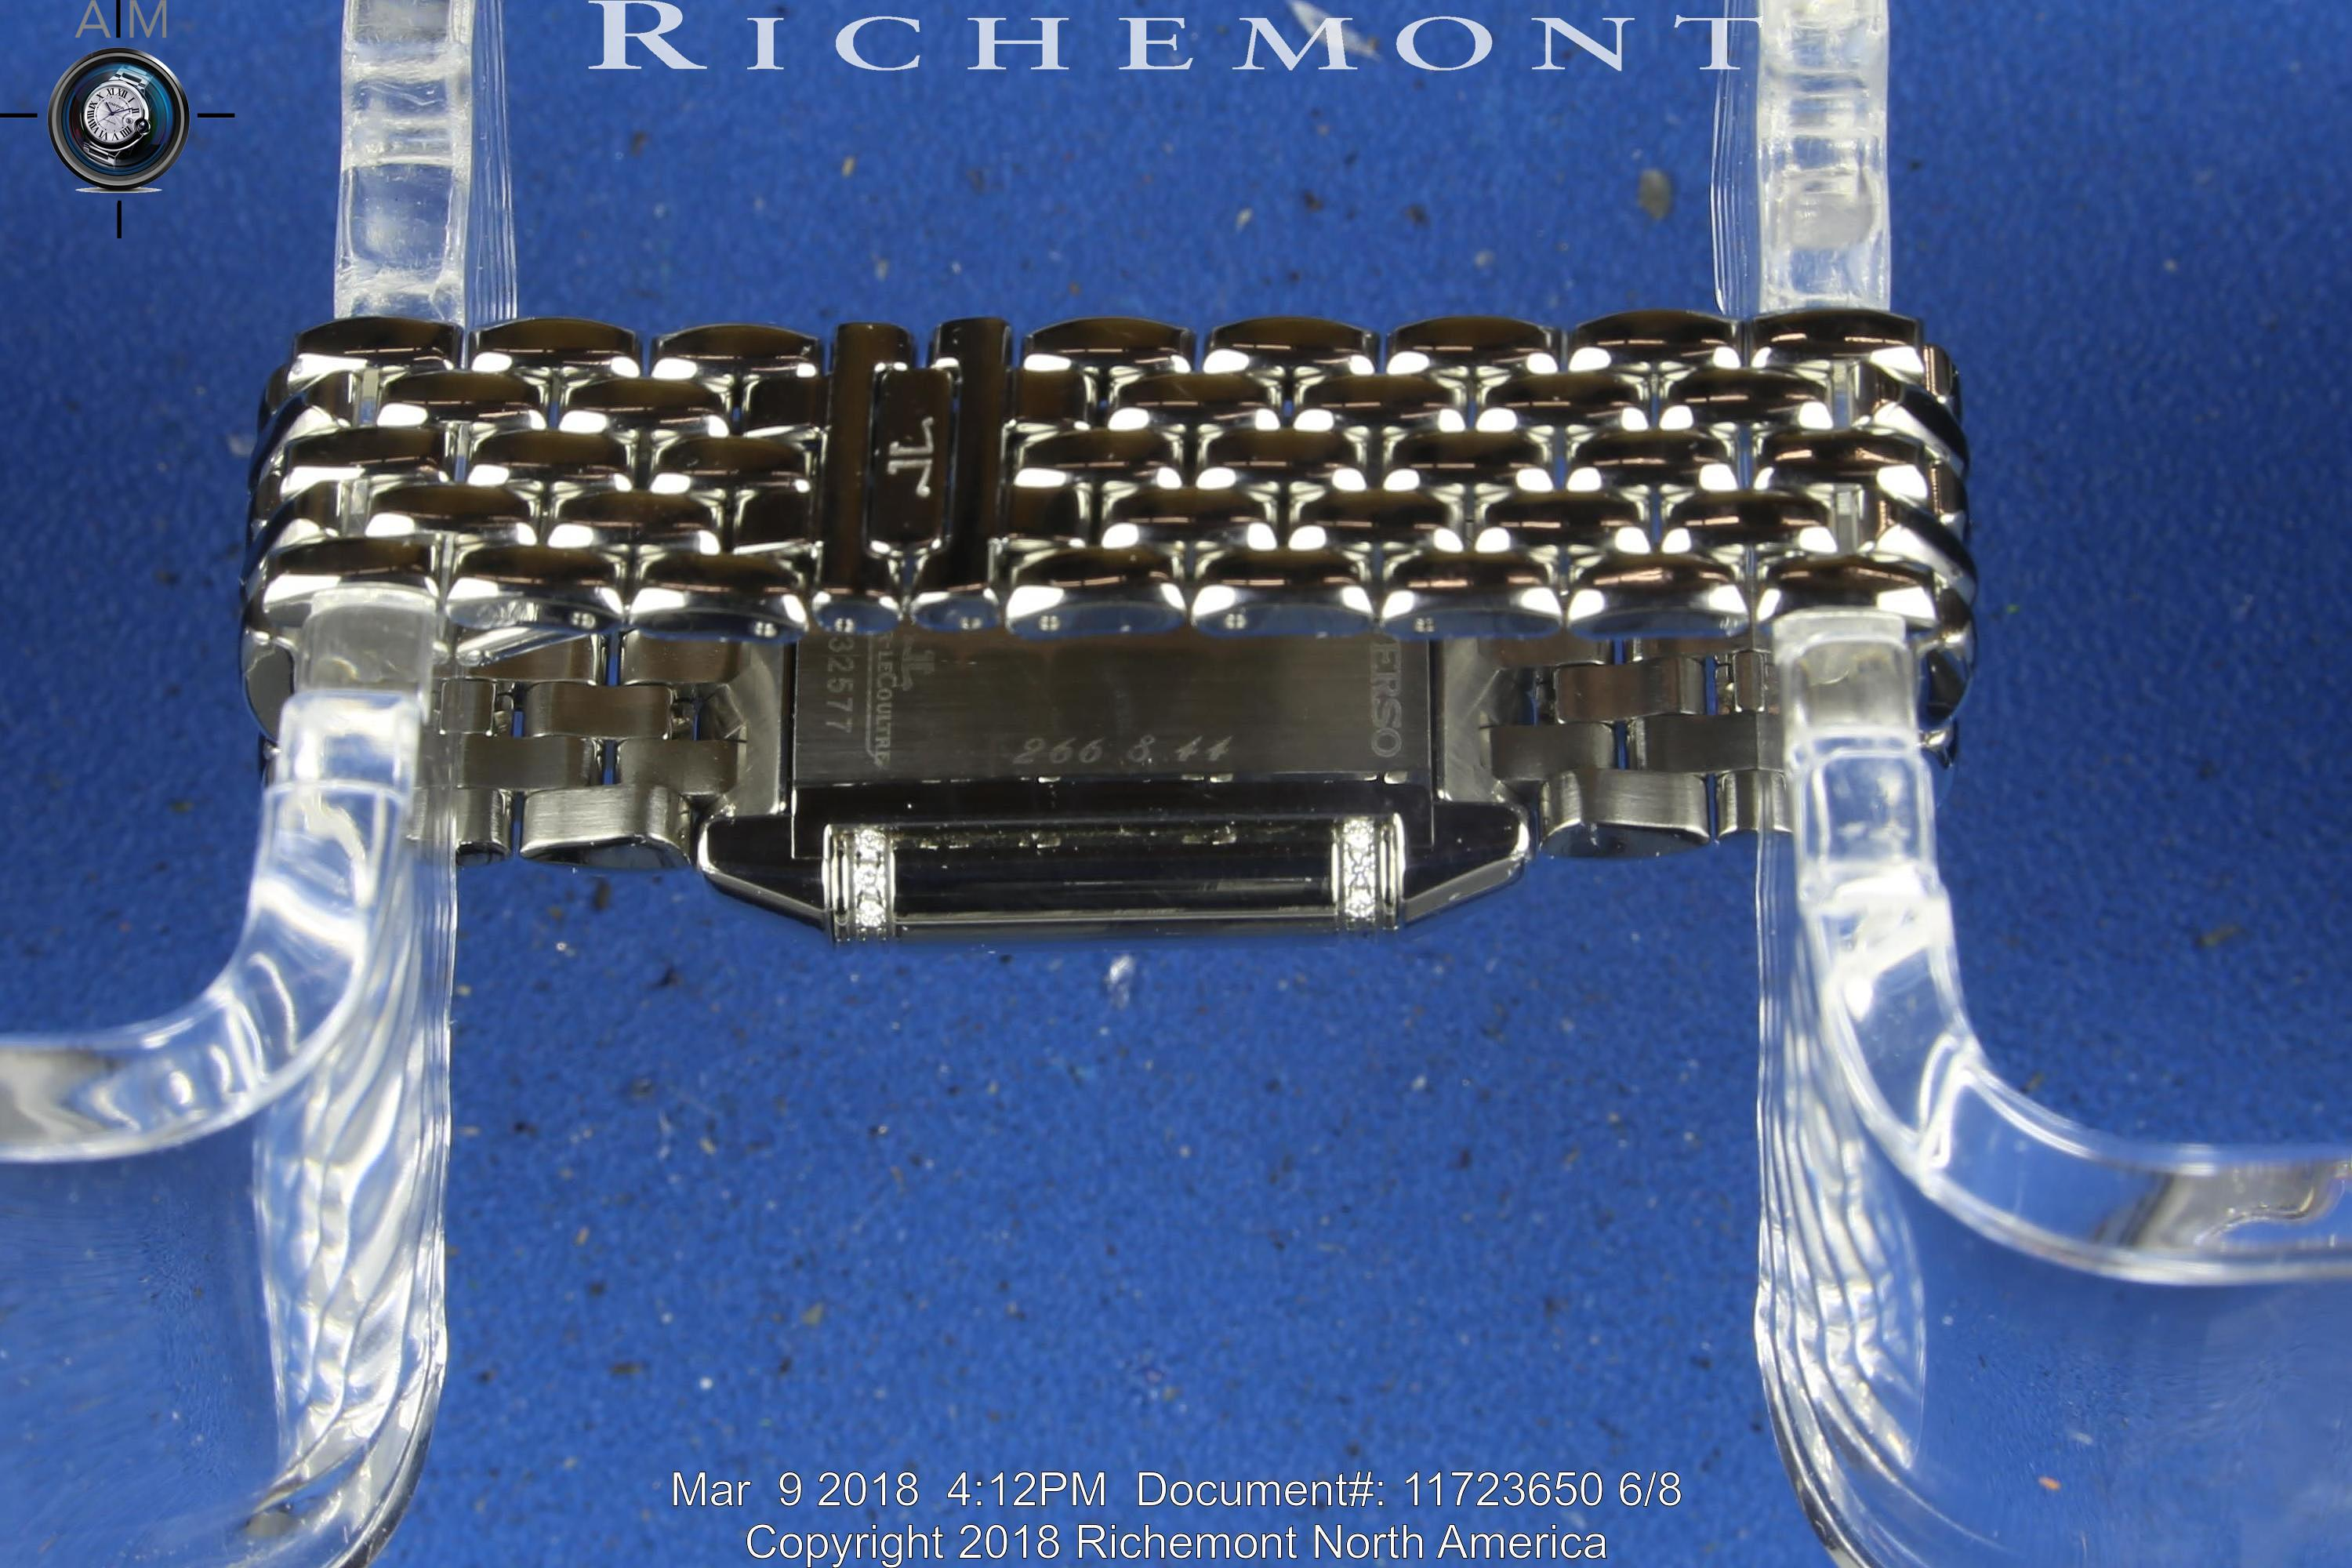Watch Back Case: (700, 623, 1531, 971)
